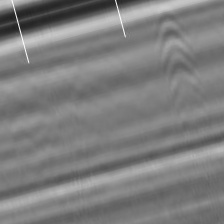Utility: (155, 12, 208, 119)
